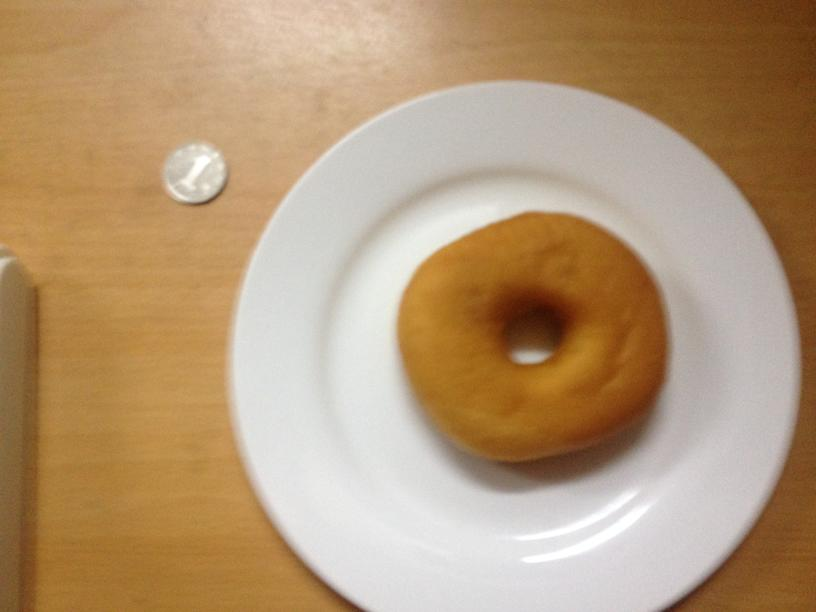coin: (160, 141, 227, 205)
doughnut: (394, 204, 666, 460)
